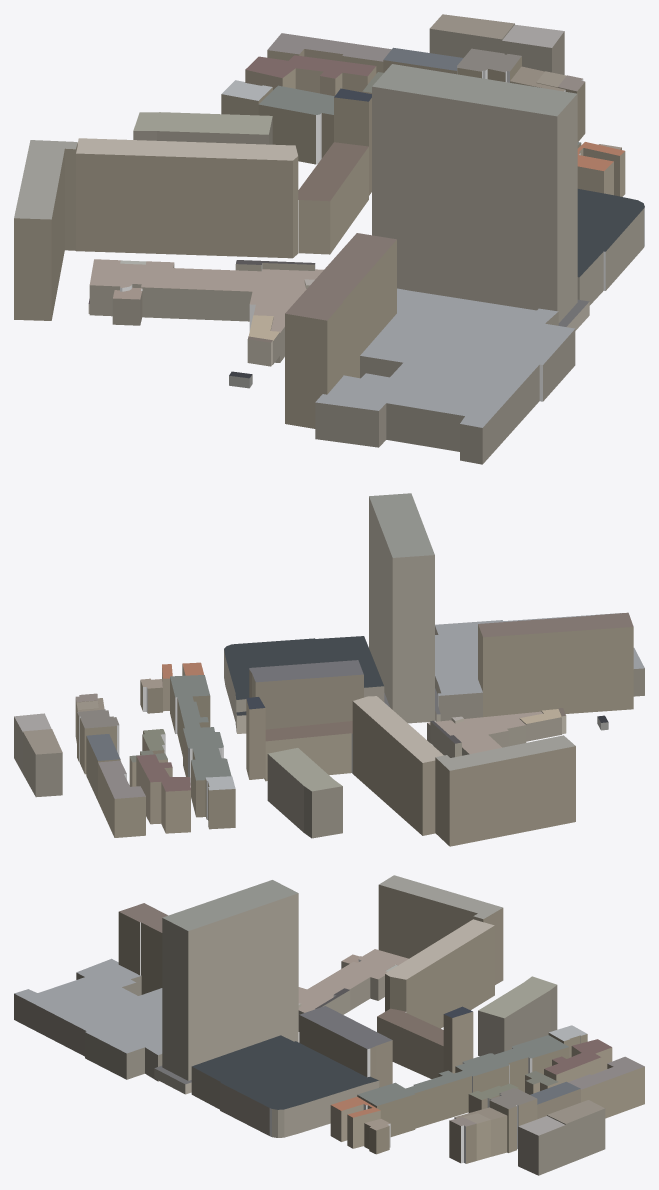
3 renders of one model, top to bottom at view 1: azimuth 30°, elevation 25°; view 2: azimuth 150°, elevation 25°; view 3: azimuth 270°, elevation 25°, orthographic. The views are drawn at different scales.
Visible parts, largest first — view 1: tuile; view 2: tuile; view 3: tuile.
Boxes of the visible parts, x1,y1,x2,y2 form: tuile: (14,14,644,464); tuile: (14,493,644,846); tuile: (14,875,644,1175).
Size of the model in its own units: 260 by 89.39 by 304.
